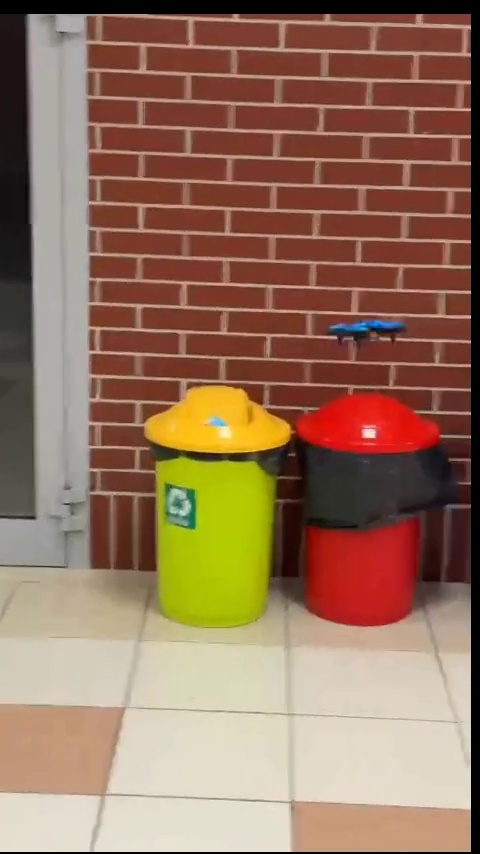drone: (328, 314, 401, 349)
